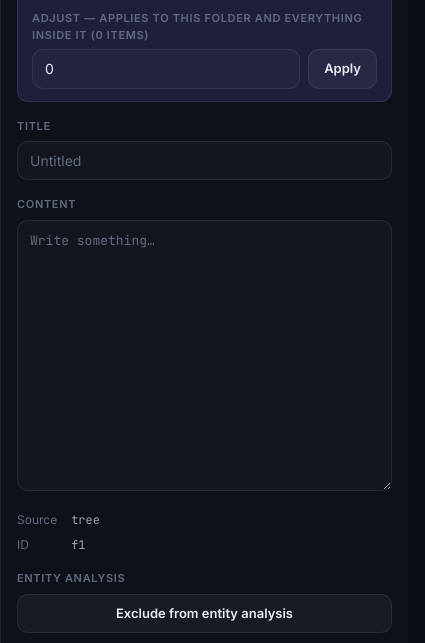
Test: DetailPanel › shows the affected doc count when excluding a folder
(page scrolled)
What coordinates should you click on to do the following:
click the button "Exclude from entity analysis"
I would click on:
 (204, 613)
Its box is top-left (17, 594), bottom-right (392, 633).
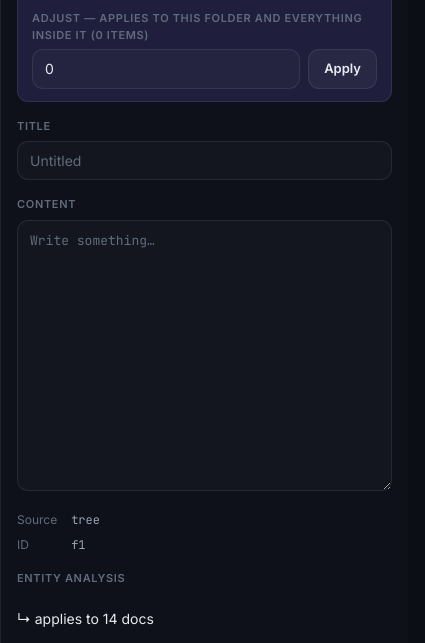
Now the text "↳ applies to 14 docs" is shown, box top-left (17, 610), bottom-right (154, 627)
